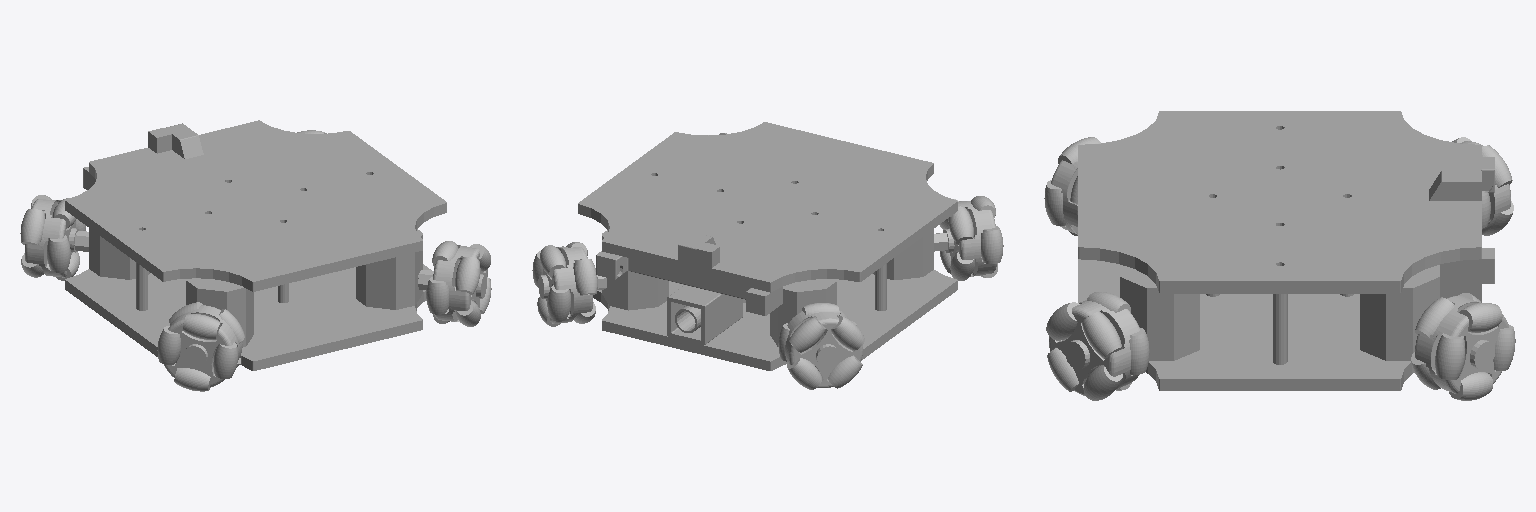
The robot description file, URDF, robot "omni_robot":
<?xml version="1.0" encoding="utf-8"?>
<!-- This URDF was automatically created by SolidWorks to URDF Exporter! Originally created by [author] ([email redacted]) 
     Commit Version: 1.6.0-1-g15f4949  Build Version: 1.6.7594.29634
     For more information, please see http://wiki.ros.org/sw_urdf_exporter -->
<robot
  name="omni_robot">
  <link
    name="base_link">
    <inertial>
      <origin
        xyz="-9.13611639294152E-05 0.00214232217806076 0.0214319897115358"
        rpy="0 0 0" />
      <mass
        value="0.852809673697343" />
      <inertia
        ixx="0."
        ixy="0"
        ixz="0"
        iyy="0"
        iyz="0"
        izz="0" />
    </inertial>
    <visual>
      <origin
        xyz="0 0 0"
        rpy="0 0 0" />
      <geometry>
        <mesh
          filename="package://omni_robot/meshes/base_link.STL" />
      </geometry>
      <material
        name="">
        <color
          rgba="0.698039215686274 0.698039215686274 0.698039215686274 1" />
      </material>
    </visual>
    <collision>
      <origin
        xyz="0 0 0"
        rpy="0 0 0" />
      <geometry>
        <mesh
          filename="package://omni_robot/meshes/base_link.STL" />
      </geometry>
    </collision>
  </link>
  <link
    name="Wheel_Front_Right">
    <inertial>
      <origin
        xyz="-0.0131020286356422 -1.20155560002361E-06 6.56261469429362E-07"
        rpy="0 0 0" />
      <mass
        value="0.0200704573599485" />
      <inertia
        ixx="0."
        ixy="0"
        ixz="0"
        iyy="0"
        iyz="0"
        izz="0" />
    </inertial>
    <visual>
      <origin
        xyz="0 0 0"
        rpy="0 0 0" />
      <geometry>
        <mesh
          filename="package://omni_robot/meshes/Wheel_Front_Right.STL" />
      </geometry>
      <material
        name="">
        <color
          rgba="0.752941176470588 0.752941176470588 0.752941176470588 1" />
      </material>
    </visual>
    <collision>
      <origin
        xyz="0 0 0"
        rpy="0 0 0" />
      <geometry>
        <mesh
          filename="package://omni_robot/meshes/Wheel_Front_Right.STL" />
      </geometry>
    </collision>
  </link>
  <joint
    name="joint_wfr"
    type="continuous">
    <origin
      xyz="0.0760716105192469 0.076070100405225 0.0149999999999999"
      rpy="0 0 0.785398163397451" />
    <parent
      link="base_link" />
    <child
      link="Wheel_Front_Right" />
    <axis
      xyz="1 0 0" />
  </joint>
  <link
    name="Wheel_Front_Left">
    <inertial>
      <origin
        xyz="-0.0131020440662054 5.27333704342103E-07 -1.26179584825949E-06"
        rpy="0 0 0" />
      <mass
        value="0.0200704541706871" />
      <inertia
        ixx="0."
        ixy="0"
        ixz="0"
        iyy="0"
        iyz="0"
        izz="0" />
    </inertial>
    <visual>
      <origin
        xyz="0 0 0"
        rpy="0 0 0" />
      <geometry>
        <mesh
          filename="package://omni_robot/meshes/Wheel_Front_Left.STL" />
      </geometry>
      <material
        name="">
        <color
          rgba="0.752941176470588 0.752941176470588 0.752941176470588 1" />
      </material>
    </visual>
    <collision>
      <origin
        xyz="0 0 0"
        rpy="0 0 0" />
      <geometry>
        <mesh
          filename="package://omni_robot/meshes/Wheel_Front_Left.STL" />
      </geometry>
    </collision>
  </link>
  <joint
    name="joint_wfl"
    type="continuous">
    <origin
      xyz="-0.0761780259008162 0.0760716105192465 0.0149999999999998"
      rpy="0 0 2.35619449019235" />
    <parent
      link="base_link" />
    <child
      link="Wheel_Front_Left" />
    <axis
      xyz="1 0 0" />
  </joint>
  <link
    name="Wheel_Back_Left">
    <inertial>
      <origin
        xyz="-0.0131020287152041 1.22305777813109E-06 -6.15396704395713E-07"
        rpy="0 0 0" />
      <mass
        value="0.0200704384003013" />
      <inertia
        ixx="0."
        ixy="0"
        ixz="0"
        iyy="0"
        iyz="0"
        izz="0" />
    </inertial>
    <visual>
      <origin
        xyz="0 0 0"
        rpy="0 0 0" />
      <geometry>
        <mesh
          filename="package://omni_robot/meshes/Wheel_Back_Left.STL" />
      </geometry>
      <material
        name="">
        <color
          rgba="0.752941176470588 0.752941176470588 0.752941176470588 1" />
      </material>
    </visual>
    <collision>
      <origin
        xyz="0 0 0"
        rpy="0 0 0" />
      <geometry>
        <mesh
          filename="package://omni_robot/meshes/Wheel_Back_Left.STL" />
      </geometry>
    </collision>
  </link>
  <joint
    name="joint_wbl"
    type="continuous">
    <origin
      xyz="-0.0761795360148377 -0.0761780259008174 0.015"
      rpy="0 0 -2.35619449019234" />
    <parent
      link="base_link" />
    <child
      link="Wheel_Back_Left" />
    <axis
      xyz="1 0 0" />
  </joint>
  <link
    name="Wheel_Back_Right">
    <inertial>
      <origin
        xyz="-0.0131020468480355 6.55532774979095E-07 -1.19984742866404E-06"
        rpy="0 0 0" />
      <mass
        value="0.0200704565850667" />
      <inertia
        ixx="0."
        ixy="0"
        ixz="0"
        iyy="0"
        iyz="0"
        izz="0" />
    </inertial>
    <visual>
      <origin
        xyz="0 0 0"
        rpy="0 0 0" />
      <geometry>
        <mesh
          filename="package://omni_robot/meshes/Wheel_Back_Right.STL" />
      </geometry>
      <material
        name="">
        <color
          rgba="0.752941176470588 0.752941176470588 0.752941176470588 1" />
      </material>
    </visual>
    <collision>
      <origin
        xyz="0 0 0"
        rpy="0 0 0" />
      <geometry>
        <mesh
          filename="package://omni_robot/meshes/Wheel_Back_Right.STL" />
      </geometry>
    </collision>
  </link>
  <joint
    name="joint_wbr"
    type="continuous">
    <origin
      xyz="0.0760701004052256 -0.0761795360148388 0.015"
      rpy="0 0 -0.785398163397447" />
    <parent
      link="base_link" />
    <child
      link="Wheel_Back_Right" />
    <axis
      xyz="1 0 0" />
  </joint>
  <link
    name="Dribler">
    <inertial>
      <origin
        xyz="0.0357501429792025 6.45374790612246E-05 2.10955274688868E-05"
        rpy="0 0 0" />
      <mass
        value="0.0184095355673453" />
      <inertia
        ixx="0."
        ixy="0"
        ixz="0"
        iyy="0"
        iyz="0"
        izz="0" />
    </inertial>
    <visual>
      <origin
        xyz="0 0 0"
        rpy="0 0 0" />
      <geometry>
        <mesh
          filename="package://omni_robot/meshes/Dribler.STL" />
      </geometry>
      <material
        name="">
        <color
          rgba="0.529411764705882 0.549019607843137 0.549019607843137 1" />
      </material>
    </visual>
    <collision>
      <origin
        xyz="0 0 0"
        rpy="0 0 0" />
      <geometry>
        <mesh
          filename="package://omni_robot/meshes/Dribler.STL" />
      </geometry>
    </collision>
  </link>
  <joint
    name="joint_dribler"
    type="continuous">
    <origin
      xyz="-0.0357459686129146 0.0762500000000002 0.0329999967259823"
      rpy="0 0 0" />
    <parent
      link="base_link" />
    <child
      link="Dribler" />
    <axis
      xyz="-1 0 0" />
  </joint>
  <link
    name="Puncher">
    <inertial>
      <origin
        xyz="-0.0156430860567535 -3.86924650305764E-18 -1.73472347597681E-18"
        rpy="0 0 0" />
      <mass
        value="0.0288061370613567" />
      <inertia
        ixx="0."
        ixy="0"
        ixz="0"
        iyy="0"
        iyz="0"
        izz="0" />
    </inertial>
    <visual>
      <origin
        xyz="0 0 0"
        rpy="0 0 0" />
      <geometry>
        <mesh
          filename="package://omni_robot/meshes/Puncher.STL" />
      </geometry>
      <material
        name="">
        <color
          rgba="0.529411764705882 0.549019607843137 0.549019607843137 1" />
      </material>
    </visual>
    <collision>
      <origin
        xyz="0 0 0"
        rpy="0 0 0" />
      <geometry>
        <mesh
          filename="package://omni_robot/meshes/Puncher.STL" />
      </geometry>
    </collision>
  </link>
  <joint
    name="joint_puncher"
    type="prismatic">
    <origin
      xyz="0 0.0805 0.015"
      rpy="0 0 1.5708" />
    <parent
      link="base_link" />
    <child
      link="Puncher" />
    <axis
      xyz="1 0 0" />
    <limit
      lower="0"
      upper="0.03"
      effort="10"
      velocity="30" />
  </joint>

  <!-- Controllers -->
  <gazebo>
    <plugin name="wheel_front_right_plugin" filename="libgazebo_ros_effort.so">
      <ros>
        <namespace>/omni_robot</namespace>
        <remapping>cmd_vel:=wheel_front_right_controller/cmd_vel</remapping>
      </ros>
      <joint>joint_wfr</joint>
    </plugin>
    <plugin name="wheel_front_left_plugin" filename="libgazebo_ros_effort.so">
      <ros>
        <namespace>/omni_robot</namespace>
        <remapping>cmd_vel:=wheel_front_left_controller/cmd_vel</remapping>
      </ros>
      <joint>joint_wfl</joint>
    </plugin>
    <plugin name="wheel_back_left_plugin" filename="libgazebo_ros_effort.so">
      <ros>
        <namespace>/omni_robot</namespace>
        <remapping>cmd_vel:=wheel_back_left_controller/cmd_vel</remapping>
      </ros>
      <joint>joint_wbl</joint>
    </plugin>
    <plugin name="wheel_back_right_plugin" filename="libgazebo_ros_effort.so">
      <ros>
        <namespace>/omni_robot</namespace>
        <remapping>cmd_vel:=wheel_back_right_controller/cmd_vel</remapping>
      </ros>
      <joint>joint_wbr</joint>
    </plugin>
  </gazebo>

  <!-- Transmission for Wheel Front Right -->
  <transmission name="transmission_wfr">
    <type>transmission_interface/SimpleTransmission</type>
    <joint name="joint_wfr">
      <hardwareInterface>effort_joint_interface</hardwareInterface>
    </joint>
    <actuator name="wheel_front_right_motor">
      <hardwareInterface>effort_joint_interface</hardwareInterface>
      <mechanicalReduction>1</mechanicalReduction>
    </actuator>
  </transmission>

  <!-- Transmission for Wheel Front Left -->
  <transmission name="transmission_wfl">
    <type>transmission_interface/SimpleTransmission</type>
    <joint name="joint_wfl">
      <hardwareInterface>effort_joint_interface</hardwareInterface>
    </joint>
    <actuator name="wheel_front_left_motor">
      <hardwareInterface>effort_joint_interface</hardwareInterface>
      <mechanicalReduction>1</mechanicalReduction>
    </actuator>
  </transmission>

  <!-- Transmission for Wheel Back Left -->
  <transmission name="transmission_wbl">
    <type>transmission_interface/SimpleTransmission</type>
    <joint name="joint_wbl">
      <hardwareInterface>effort_joint_interface</hardwareInterface>
    </joint>
    <actuator name="wheel_back_left_motor">
      <hardwareInterface>effort_joint_interface</hardwareInterface>
      <mechanicalReduction>1</mechanicalReduction>
    </actuator>
  </transmission>

  <!-- Transmission for Wheel Back Right -->
  <transmission name="transmission_wbr">
    <type>transmission_interface/SimpleTransmission</type>
    <joint name="joint_wbr">
      <hardwareInterface>effort_joint_interface</hardwareInterface>
    </joint>
    <actuator name="wheel_back_right_motor">
      <hardwareInterface>effort_joint_interface</hardwareInterface>
      <mechanicalReduction>1</mechanicalReduction>
    </actuator>
  </transmission>


</robot>

--- What the picture shows (computed from the rendered views, not written in the file) ---
The picture shows the robot from 3 angles, left to right: view 1: azimuth 30°, elevation 25°; view 2: azimuth 150°, elevation 25°; view 3: azimuth 270°, elevation 25°; orthographic projection.
Model omni_robot with 7 links and 6 joints (5 continuous, 1 prismatic), rooted at base_link, posed every joint at zero.
Visible links, largest first — view 1: base_link, Wheel_Back_Left, Wheel_Back_Right, Wheel_Front_Left; view 2: base_link, Wheel_Front_Left, Wheel_Front_Right, Wheel_Back_Left; view 3: base_link, Wheel_Front_Right, Wheel_Back_Right, Wheel_Back_Left, Wheel_Front_Left.
Boxes of the visible links, bbox=[...] form: base_link: bbox=[65, 120, 446, 370]; Wheel_Back_Left: bbox=[157, 302, 244, 391]; Wheel_Back_Right: bbox=[418, 241, 491, 326]; Wheel_Front_Left: bbox=[20, 195, 88, 280]; base_link: bbox=[578, 122, 957, 370]; Wheel_Front_Left: bbox=[778, 303, 864, 389]; Wheel_Front_Right: bbox=[532, 242, 606, 326]; Wheel_Back_Left: bbox=[934, 196, 1003, 280]; base_link: bbox=[1078, 111, 1494, 390]; Wheel_Front_Right: bbox=[1411, 293, 1515, 400]; Wheel_Back_Right: bbox=[1046, 292, 1149, 400]; Wheel_Back_Left: bbox=[1044, 137, 1100, 235]; Wheel_Front_Left: bbox=[1452, 137, 1513, 235].
Bounding box of the posed robot: 0.175 × 0.175 × 0.0569 m (x, y, z).
Meshes: 7 distinct files referenced, 5 mesh visuals loaded (5 binary STL); not drawn: 2 (reference not matched to a file when rendering).
